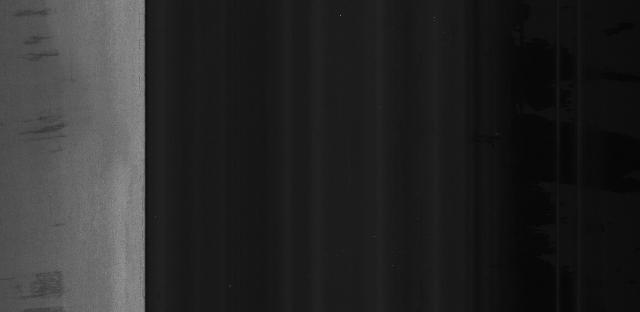water_spot: (5, 2, 79, 305)
